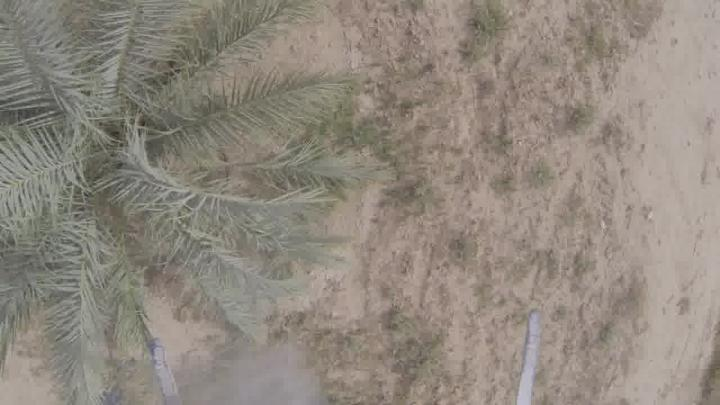Date-Palm-Crown: (0, 20, 224, 293)
